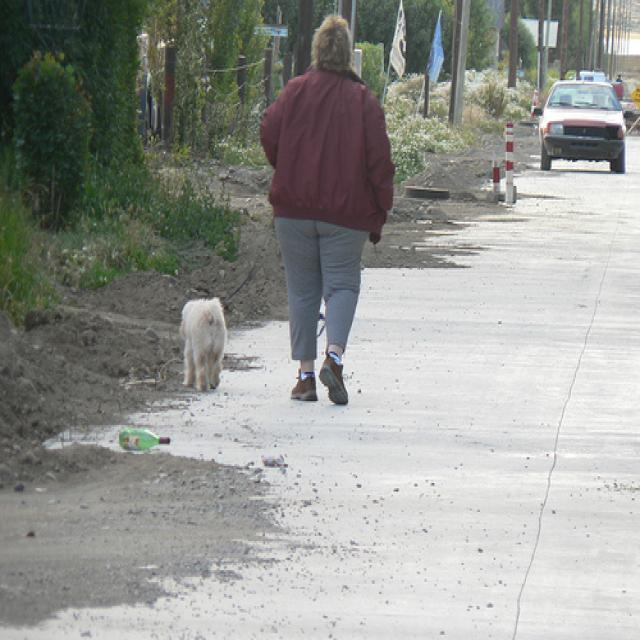light_vehicle: (536, 79, 628, 174)
